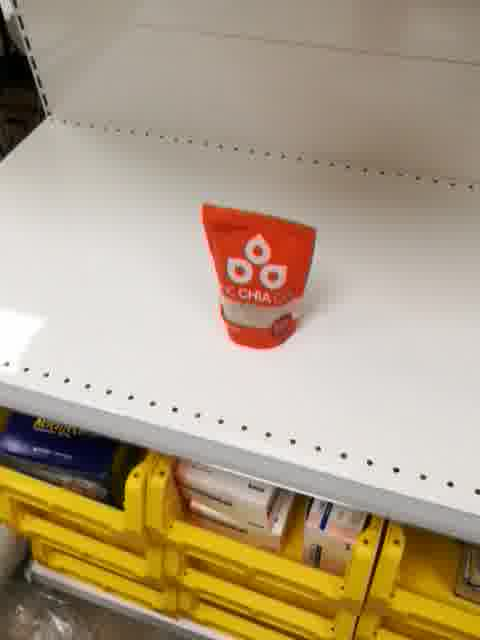whitechia: (200, 200, 321, 352)
